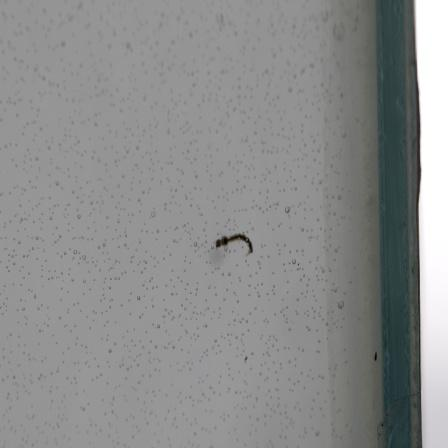Jentik-Nyamuk: (210, 227, 258, 260)
